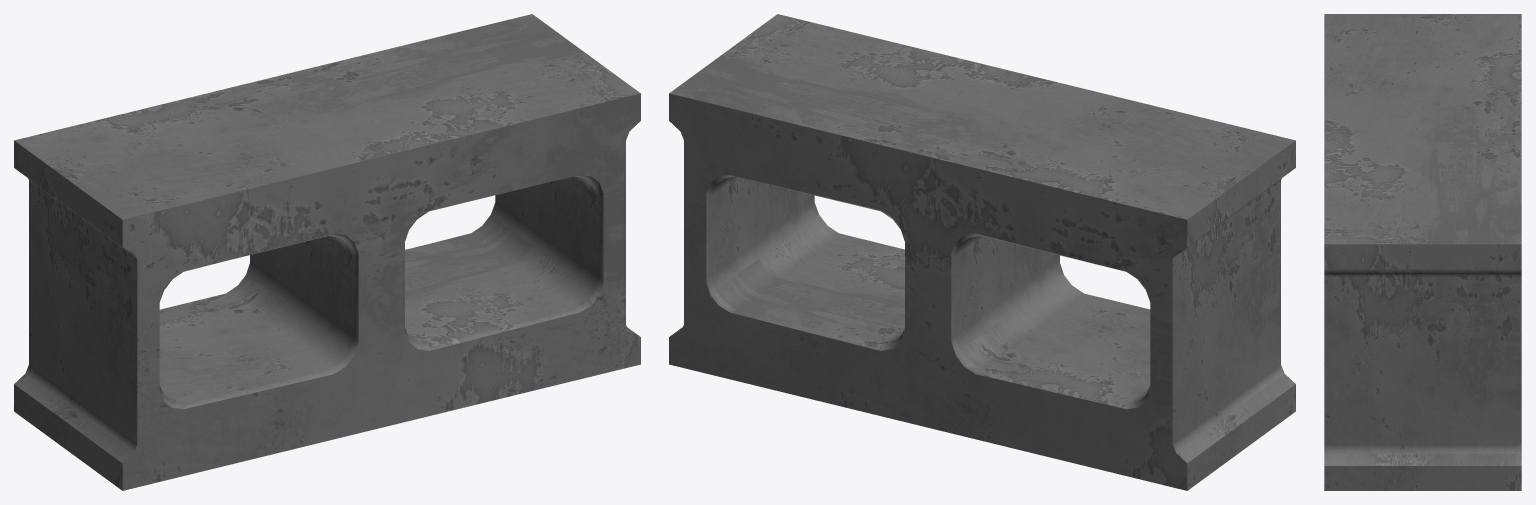
File: CinderBlock_SM.FBX
3 views of the same model, side by side, from view 1: azimuth 30°, elevation 25°; view 2: azimuth 150°, elevation 25°; view 3: azimuth 270°, elevation 25° (orthographic). The views are drawn at different scales.
Visible parts, largest first — view 1: CinderBlock_SM; view 2: CinderBlock_SM; view 3: CinderBlock_SM.
Boxes of the visible parts, x1,y1,x2,y2 form: CinderBlock_SM: (14, 14, 640, 490); CinderBlock_SM: (669, 14, 1295, 490); CinderBlock_SM: (1324, 14, 1521, 490).
Bounding box in the file's own units: 100 × 50 × 36.26.
1 material, 1 textured.
